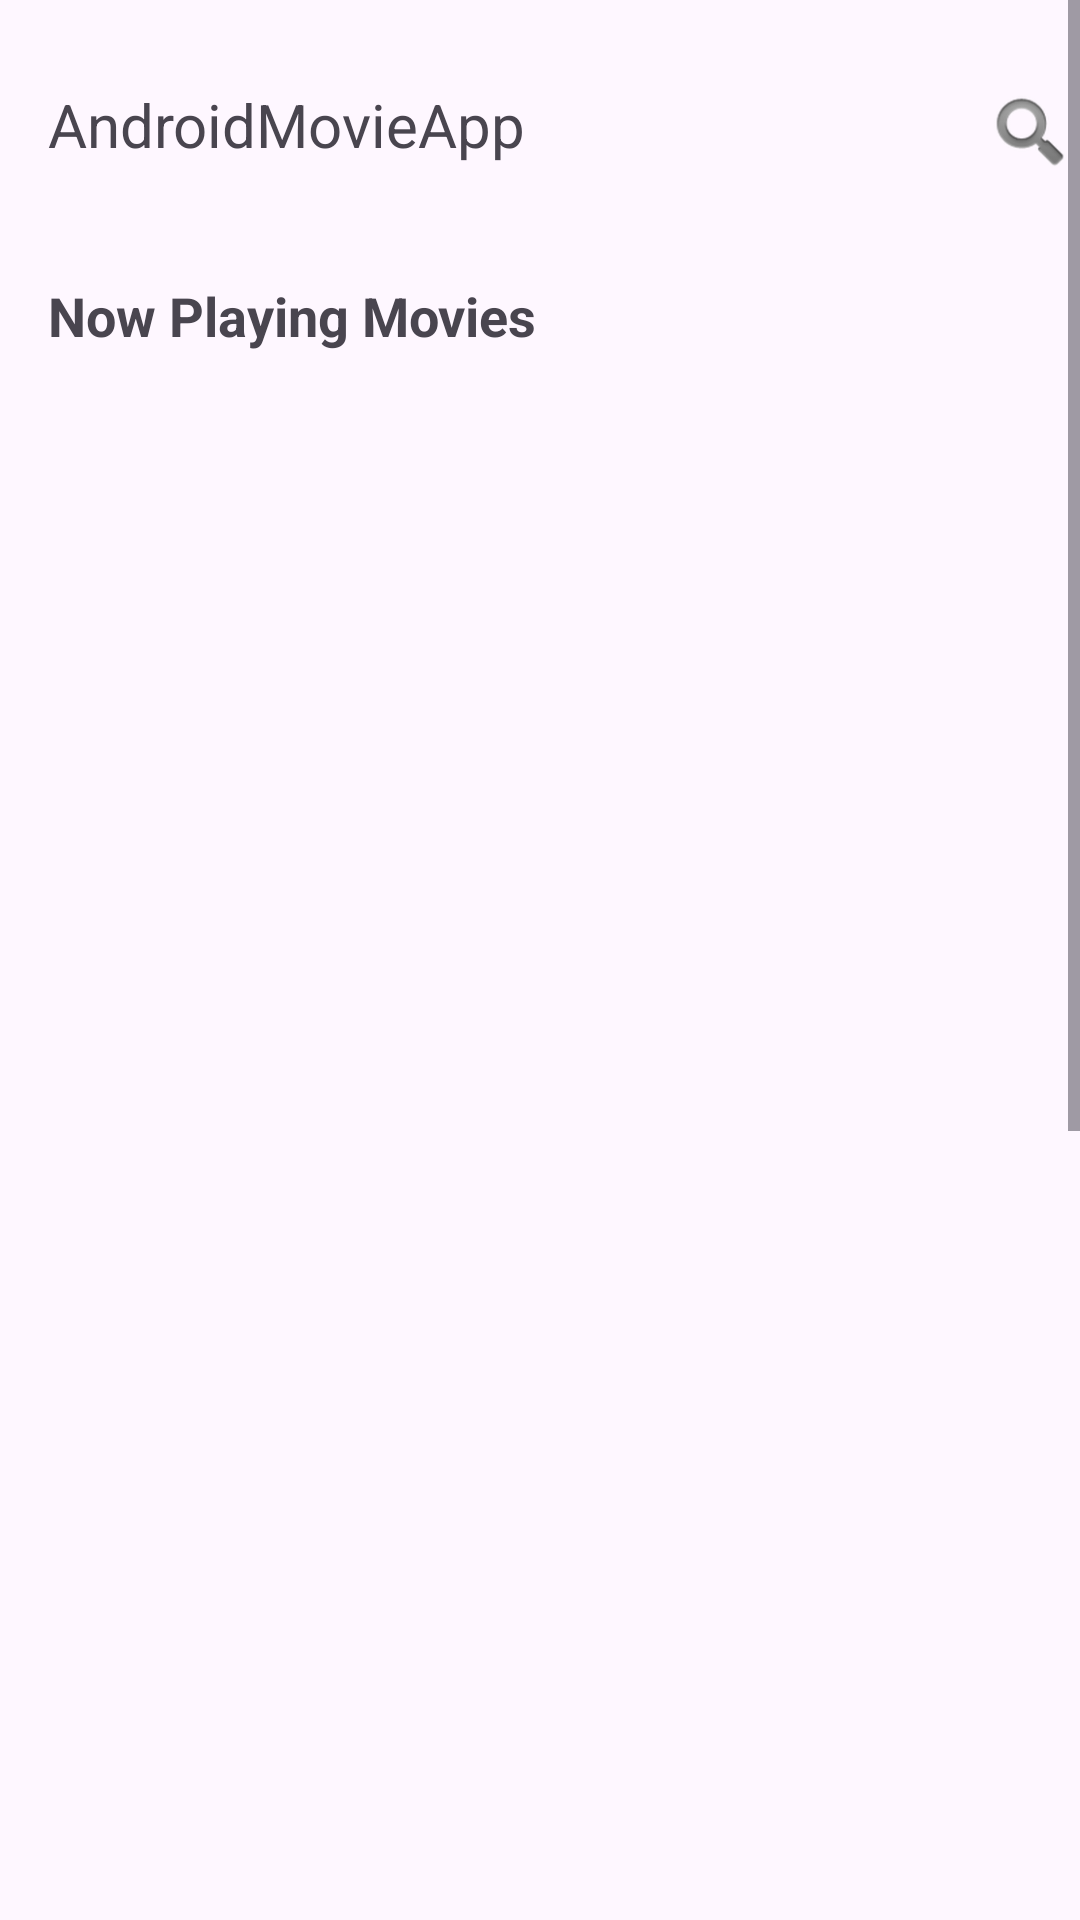

Icon bounding boxes for this 1080 x 1920 phone screenshot, format rect(x1, y1, x2, y2):
search category: rect(996, 98, 1064, 165)
